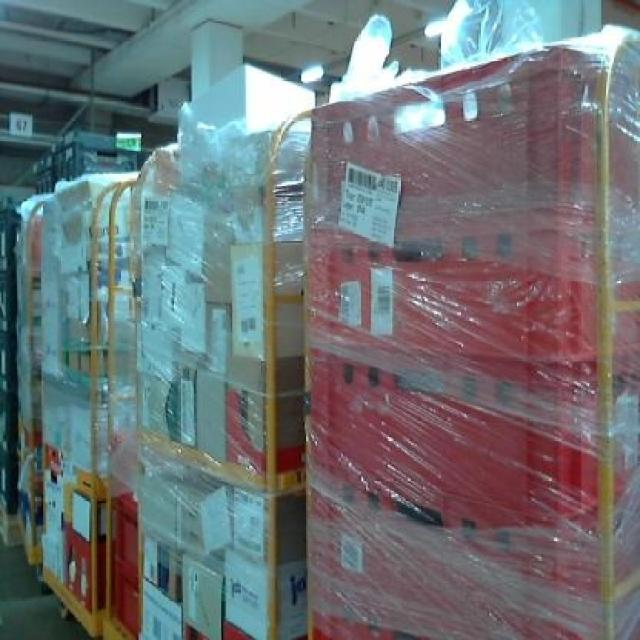pallets: (305, 28, 637, 637)
